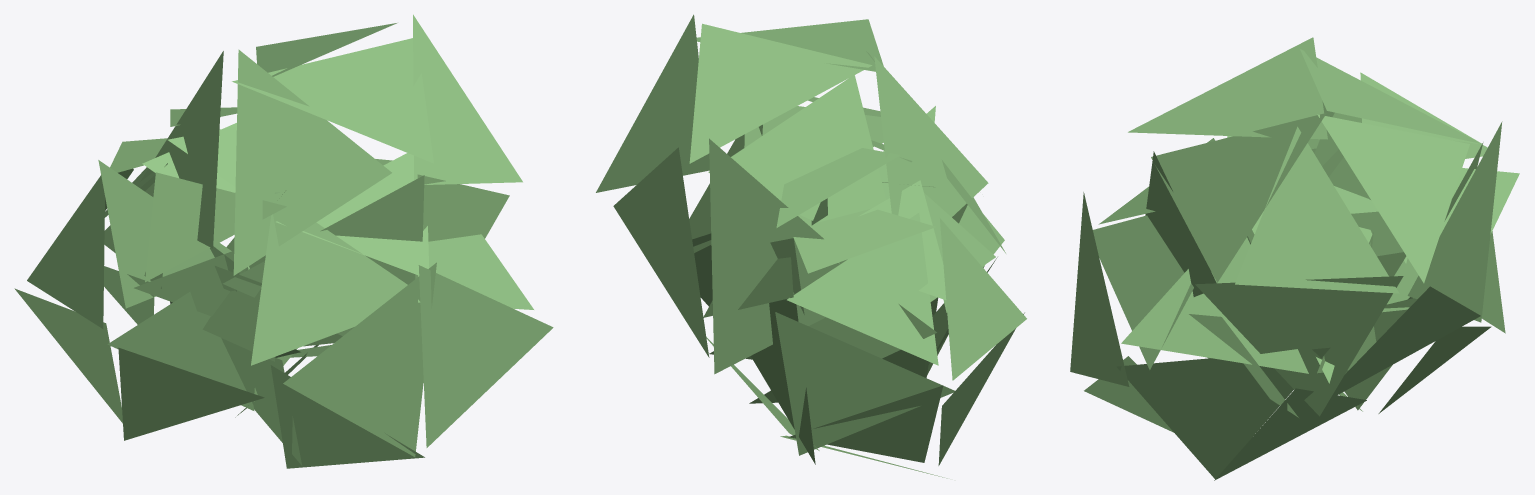
The model's file is bush_1.glb.
The picture shows the model from 3 angles, left to right: view 1: azimuth 30°, elevation 25°; view 2: azimuth 150°, elevation 25°; view 3: azimuth 270°, elevation 25°; orthographic projection.
Parts seen in each view (by area): view 1: bush_1; view 2: bush_1; view 3: bush_1.
Boxes of the visible parts, x1,y1,x2,y2 form: bush_1: [14, 14, 553, 468]; bush_1: [596, 14, 1026, 478]; bush_1: [1070, 37, 1519, 480].
Bounding box in the file's own units: 0.6948 × 0.6782 × 0.6931.
